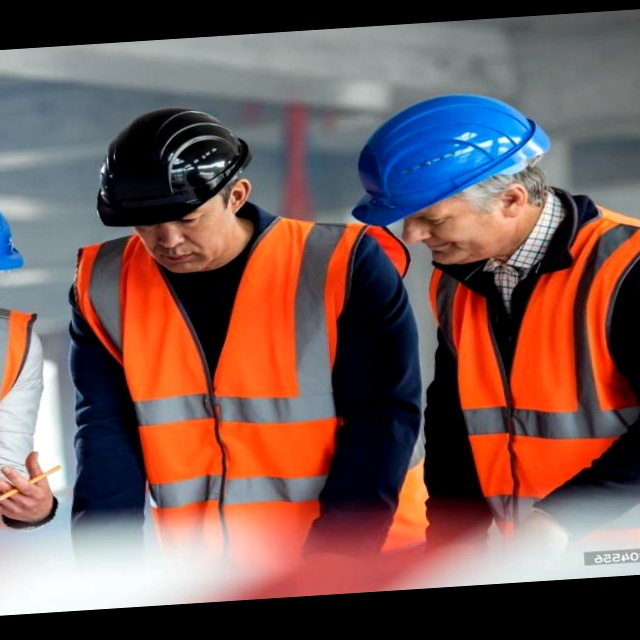Con_Casco: (344, 87, 559, 267)
Con_Chaleco: (75, 223, 392, 564), (428, 210, 640, 550)
